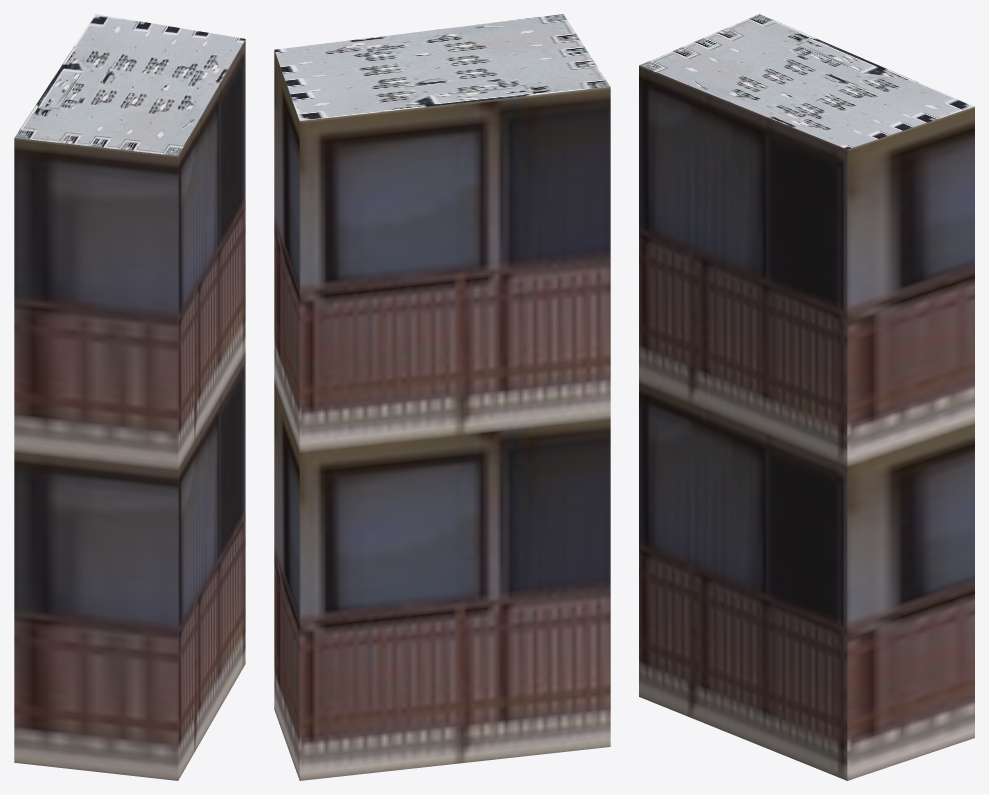
Rendered from ResTex__4352.fbx.
3 renders of one model, left to right at view 1: azimuth 30°, elevation 25°; view 2: azimuth 150°, elevation 25°; view 3: azimuth 270°, elevation 25°, orthographic. The views are drawn at different scales.
Parts seen in each view (by area): view 1: CityEngineMaterial_6_m, CityEngineMaterial_4_m; view 2: CityEngineMaterial_6_m, CityEngineMaterial_4_m; view 3: CityEngineMaterial_6_m, CityEngineMaterial_4_m.
Boxes of the visible parts, <box> form: CityEngineMaterial_6_m: <box>14,39,245,780</box>; CityEngineMaterial_4_m: <box>14,14,245,155</box>; CityEngineMaterial_6_m: <box>274,50,610,780</box>; CityEngineMaterial_4_m: <box>274,14,610,120</box>; CityEngineMaterial_6_m: <box>639,65,974,780</box>; CityEngineMaterial_4_m: <box>639,14,974,149</box>.
Bounding box in the file's own units: 2.76 × 6 × 2.89.
2 materials, 2 textured.
